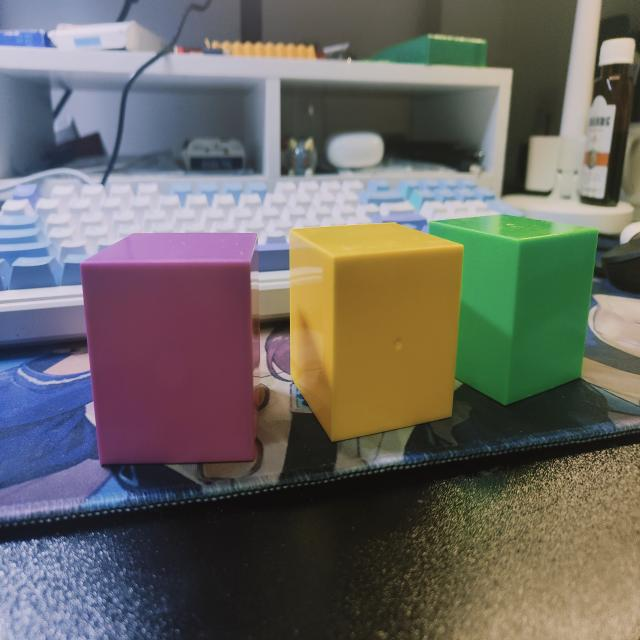green: (423, 215, 599, 408)
pink: (82, 232, 262, 468)
yellow: (288, 223, 465, 444)
